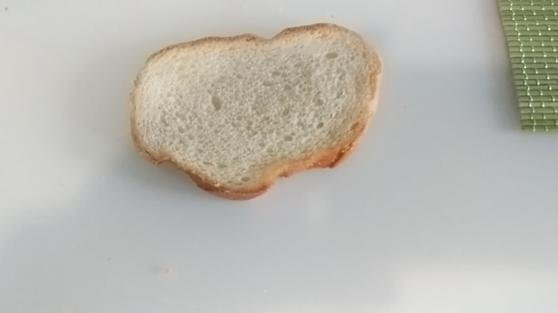white_bread: (127, 13, 385, 201)
